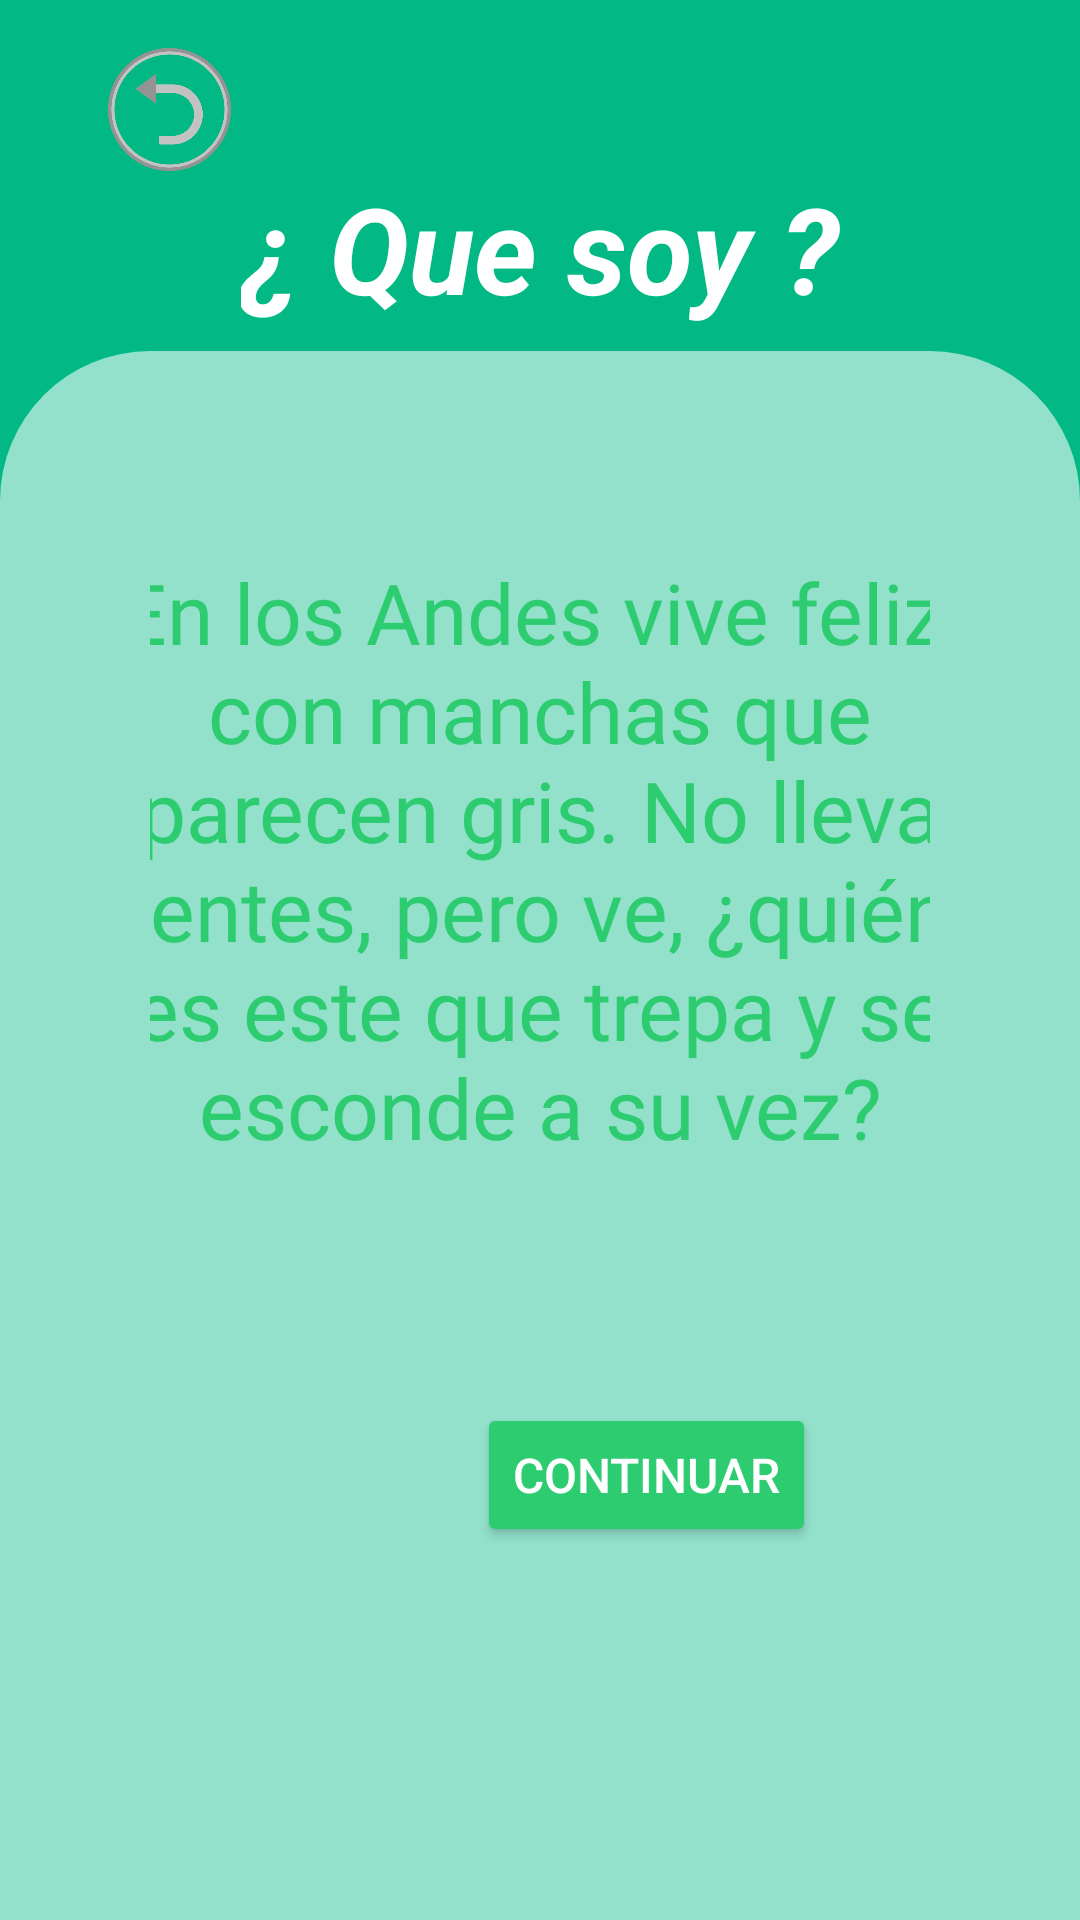

Where to tap for icons on this 1080px×1920px app screen, as (x,y):
volver: (169,109)
